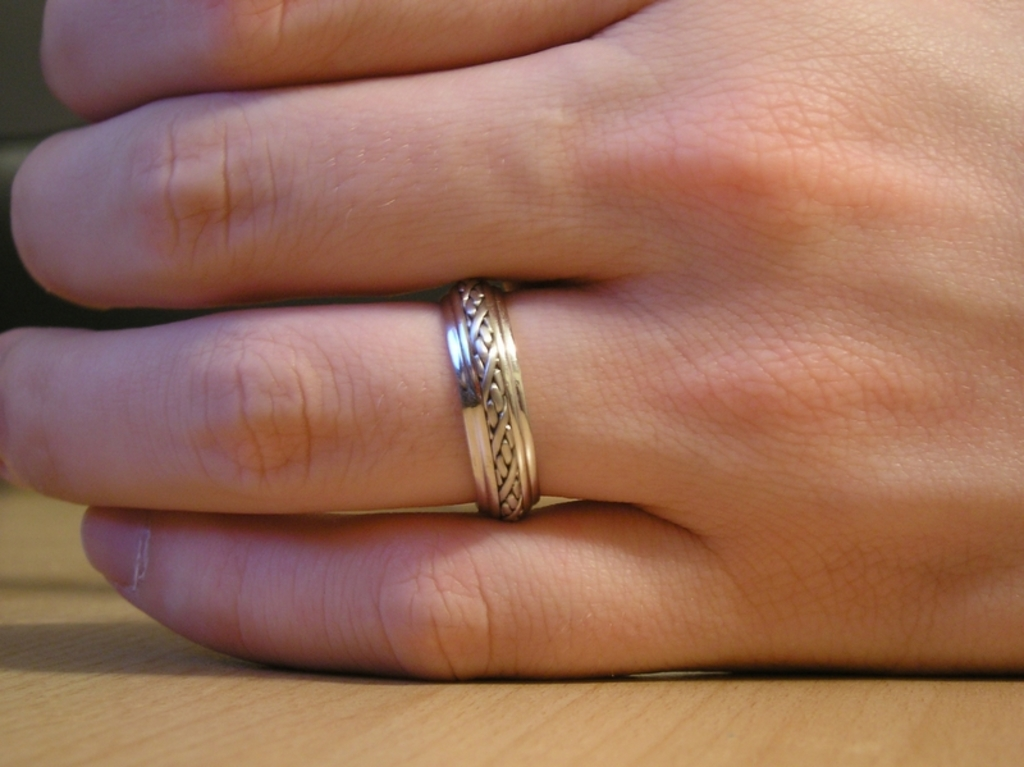Human_hand: (0, 0, 1024, 685)
